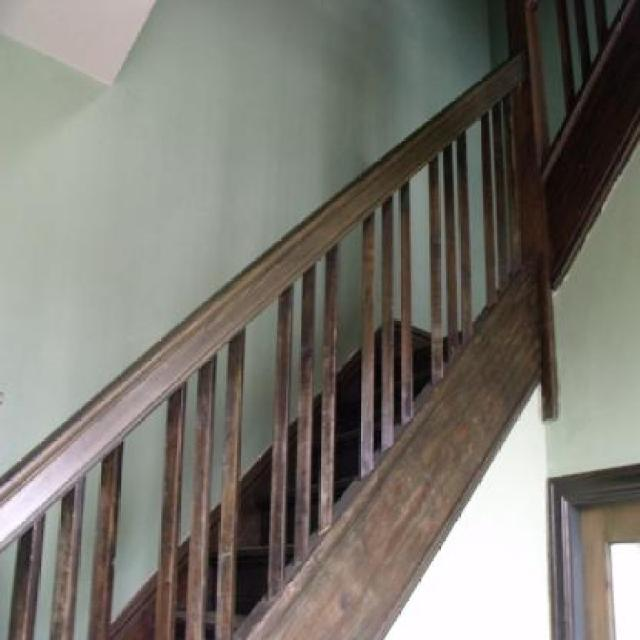stair: (94, 315, 481, 640)
